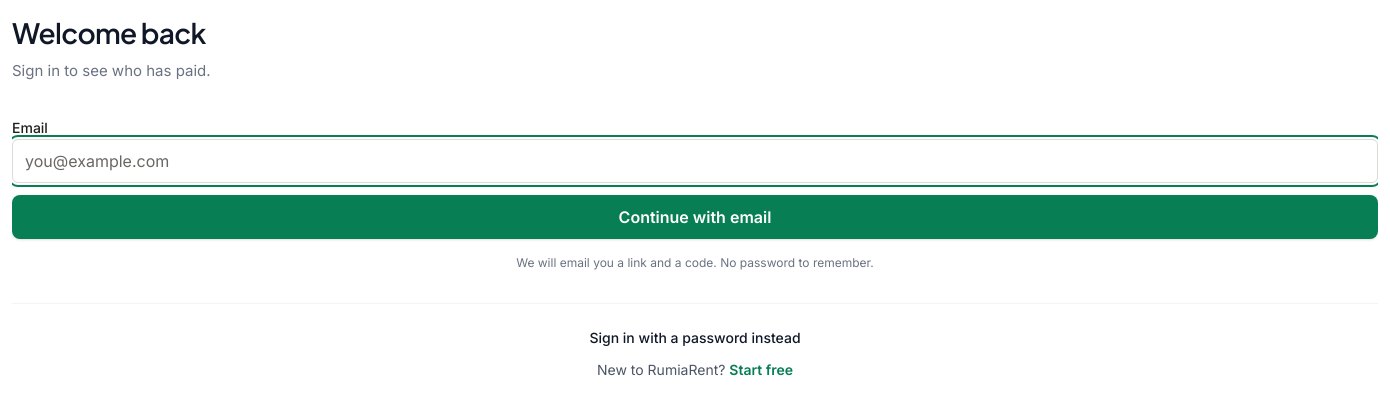
Test: SignInFlow › a just-sent email still opens the code step
Type "grace@example.com" into the field labelled "Email" at (695, 160), box x1=12 y1=138 x2=1378 y2=182
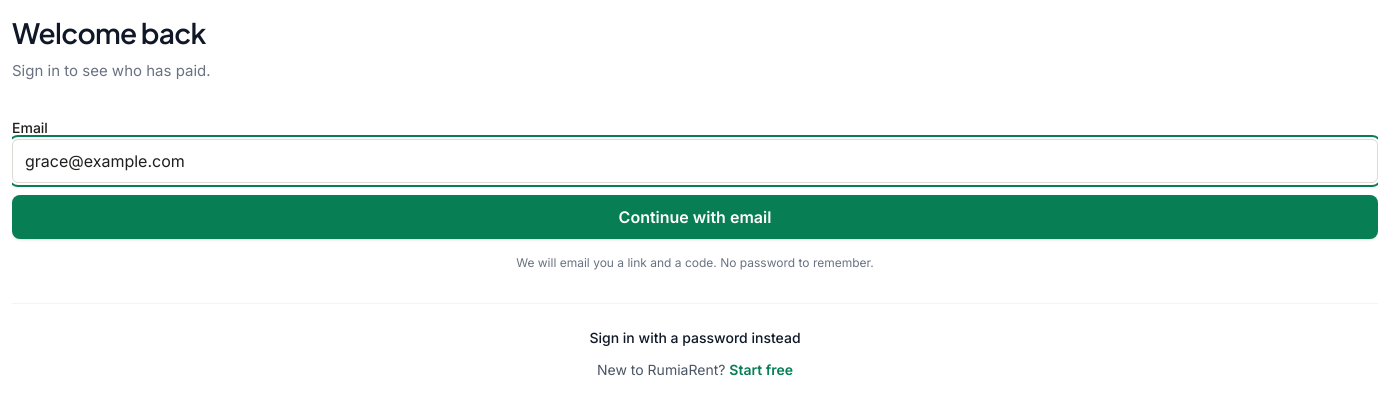
Click the button "Continue with email" at (695, 216), box x1=12 y1=194 x2=1378 y2=238
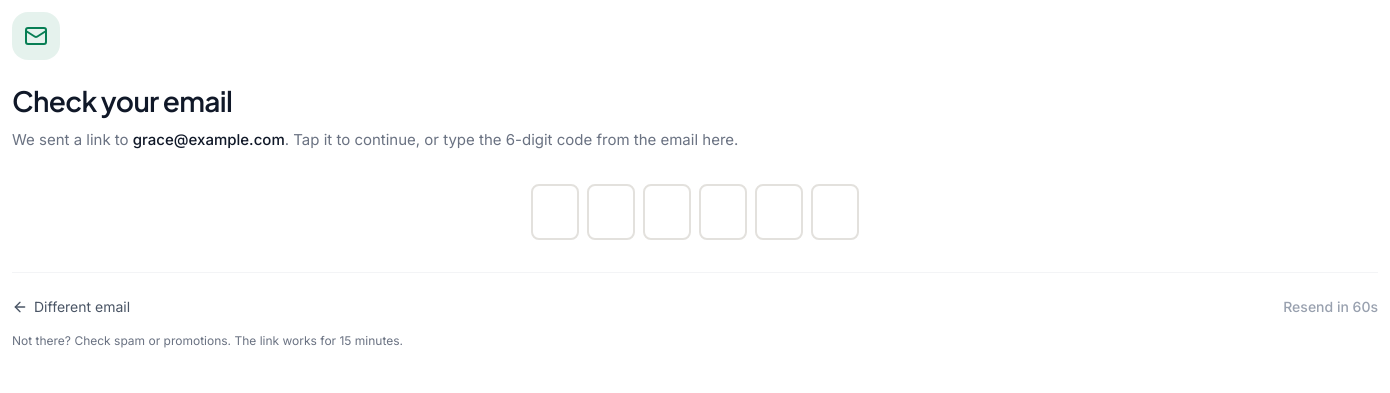
Expected: the heading "Check your email" is shown, x1=12 y1=83 x2=232 y2=118
Expected: the button "Resend in 60s" is disabled, x1=1283 y1=297 x2=1378 y2=317
